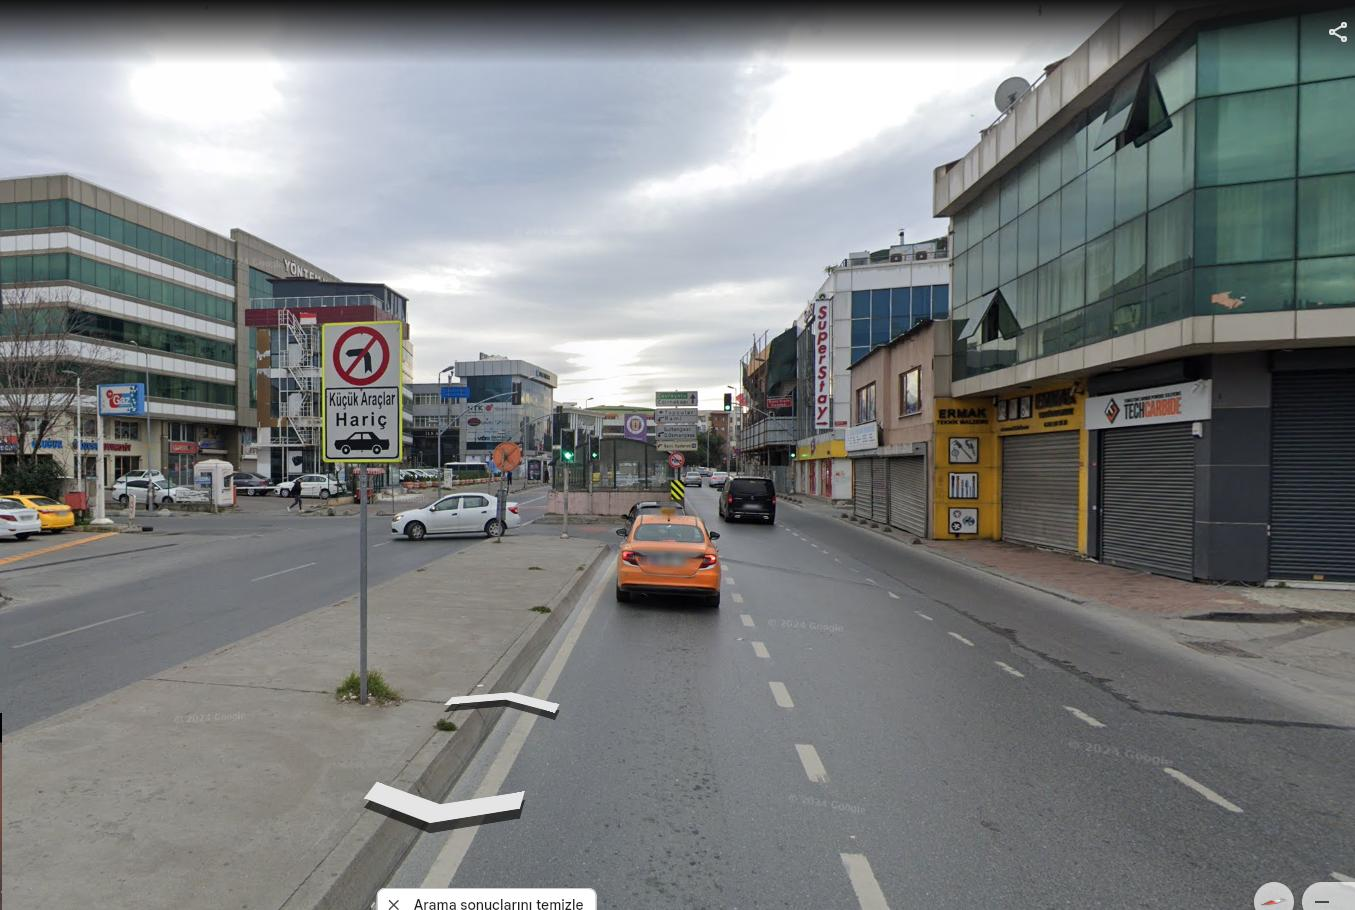leftturnsareforbidden: (329, 326, 391, 384)
